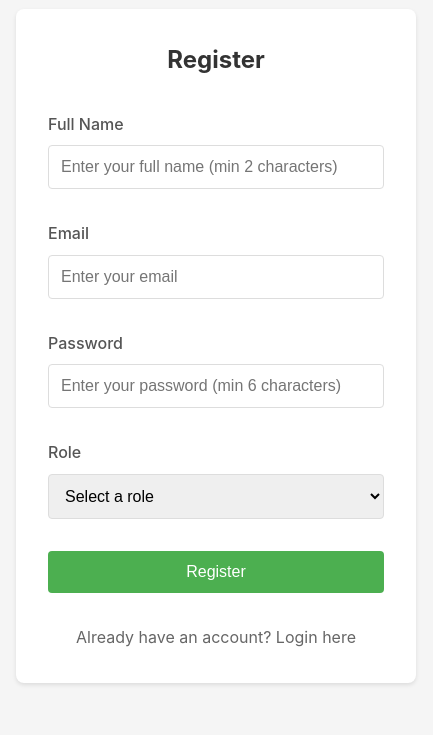
Test: Register.vue › displays error message on failed registration
Fill in form with valid data
Step 1. Type "John Doe" into the field labelled "Full Name" → [216, 167], box [48, 145, 384, 189]
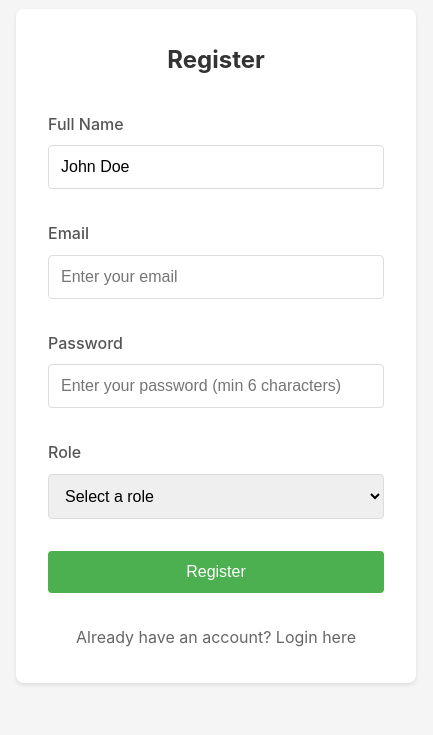
Step 2. Type "john@example.com" into the field labelled "Email" → [216, 277], box [48, 255, 384, 299]
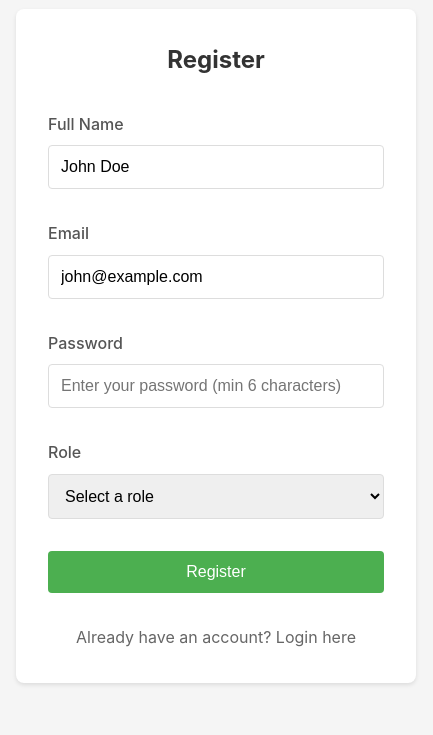
Step 3. Type "password123" into the password field labelled "Password" → [216, 386], box [48, 364, 384, 408]
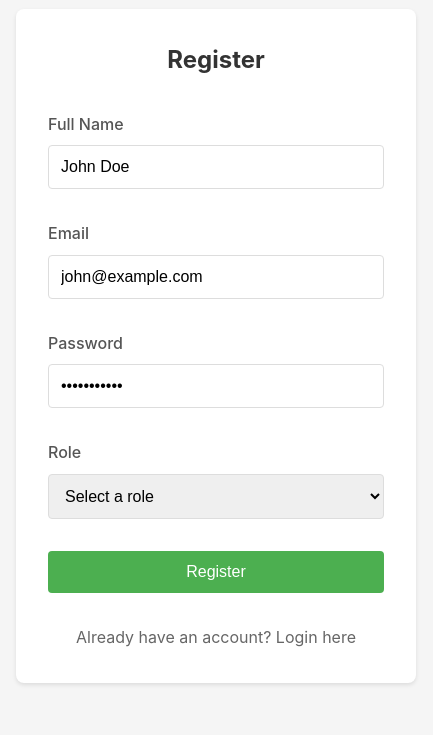
Step 4. Select "Developer" in the dropdown labelled "Role" → [216, 497], box [48, 474, 384, 519]
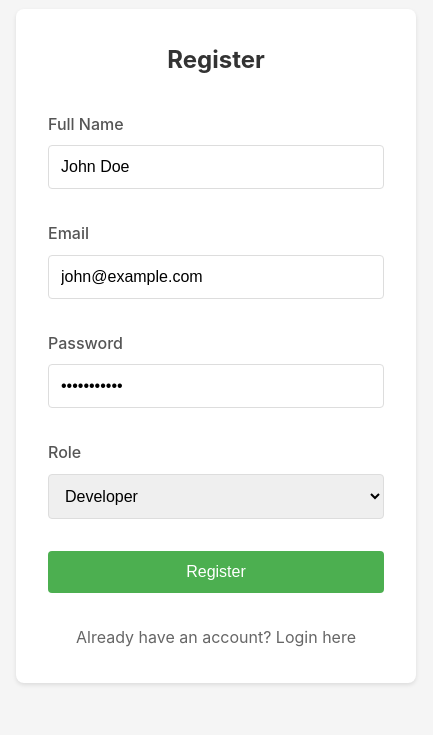
Submit form
Step 5. Submit the form, box [48, 112, 384, 651]
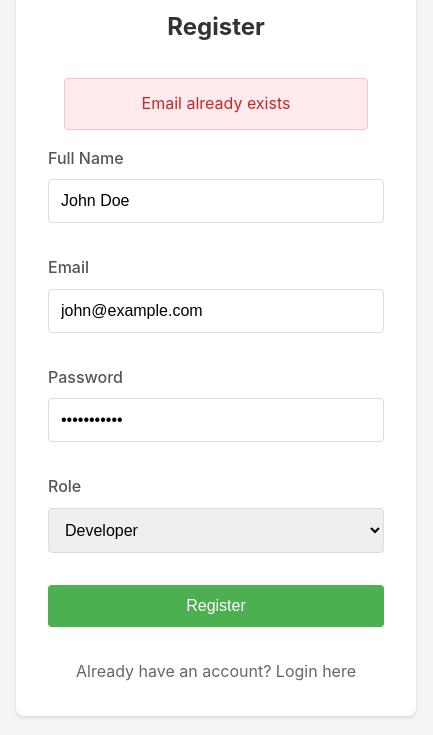
Expected: the text "Email already exists" is shown, [64, 78, 368, 130]
